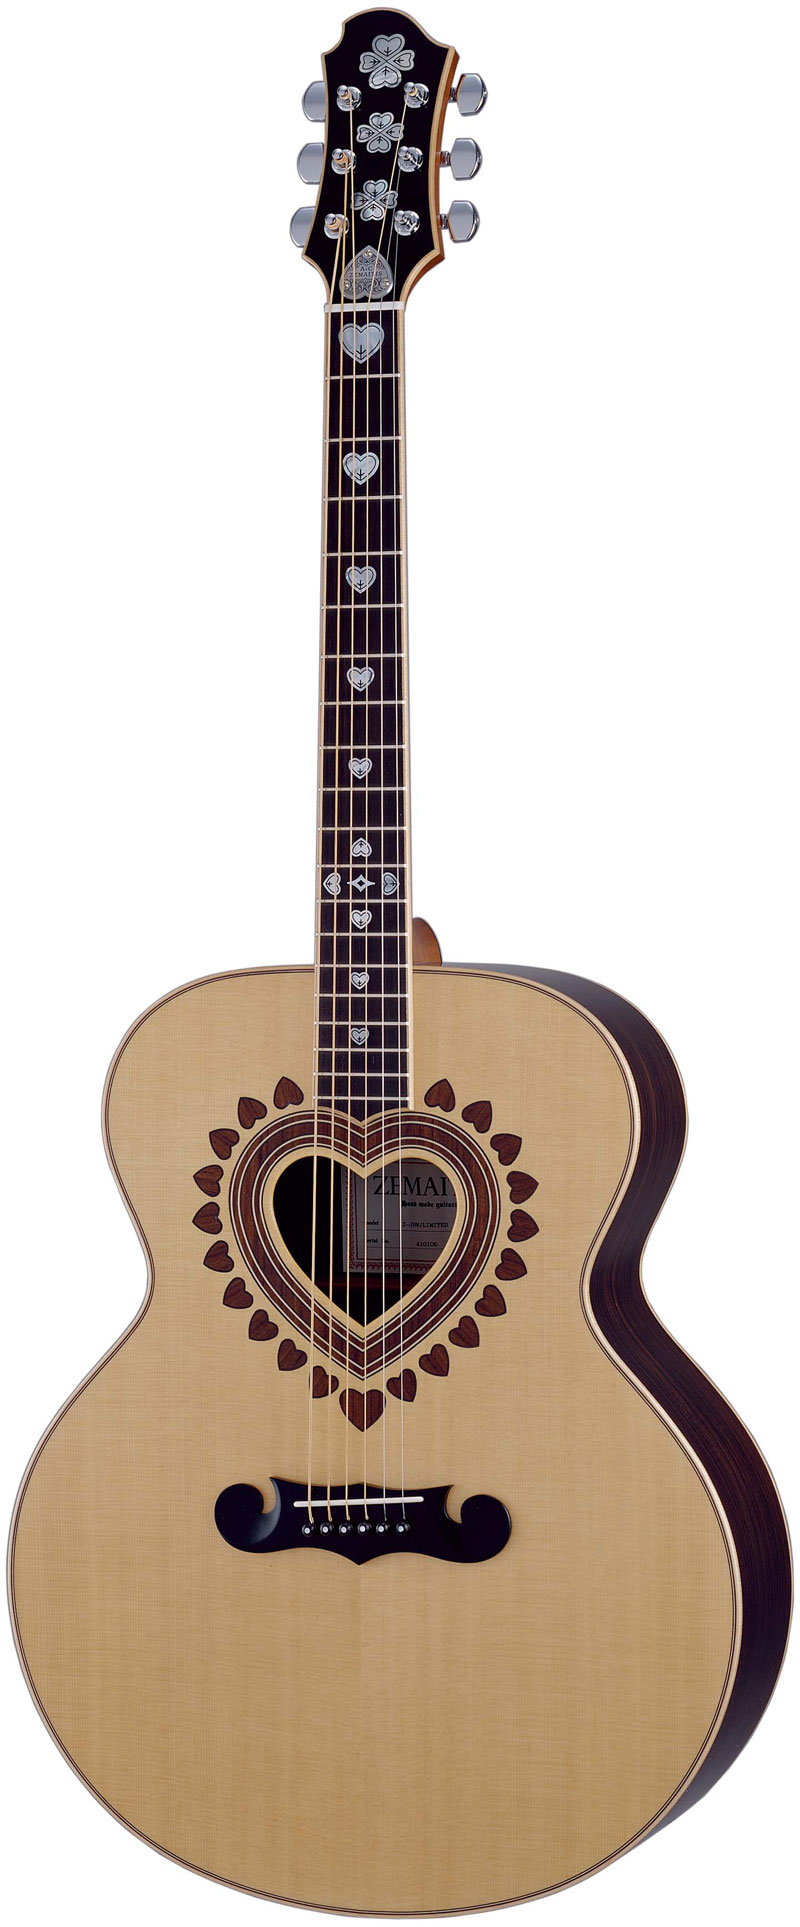guitar: (17, 10, 795, 1916)
